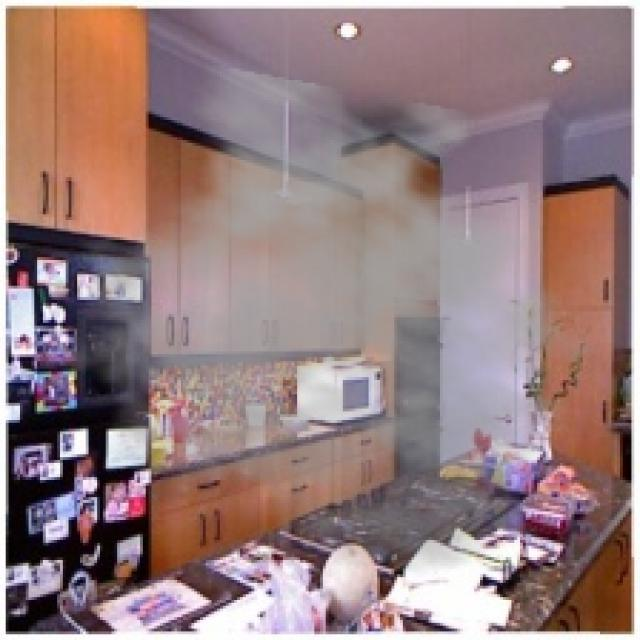Smoke: (54, 62, 623, 578)
